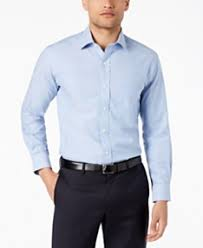F_belt: (52, 145, 156, 177)
F_dress pants: (52, 158, 153, 248)
F_shirt: (18, 29, 185, 203)
